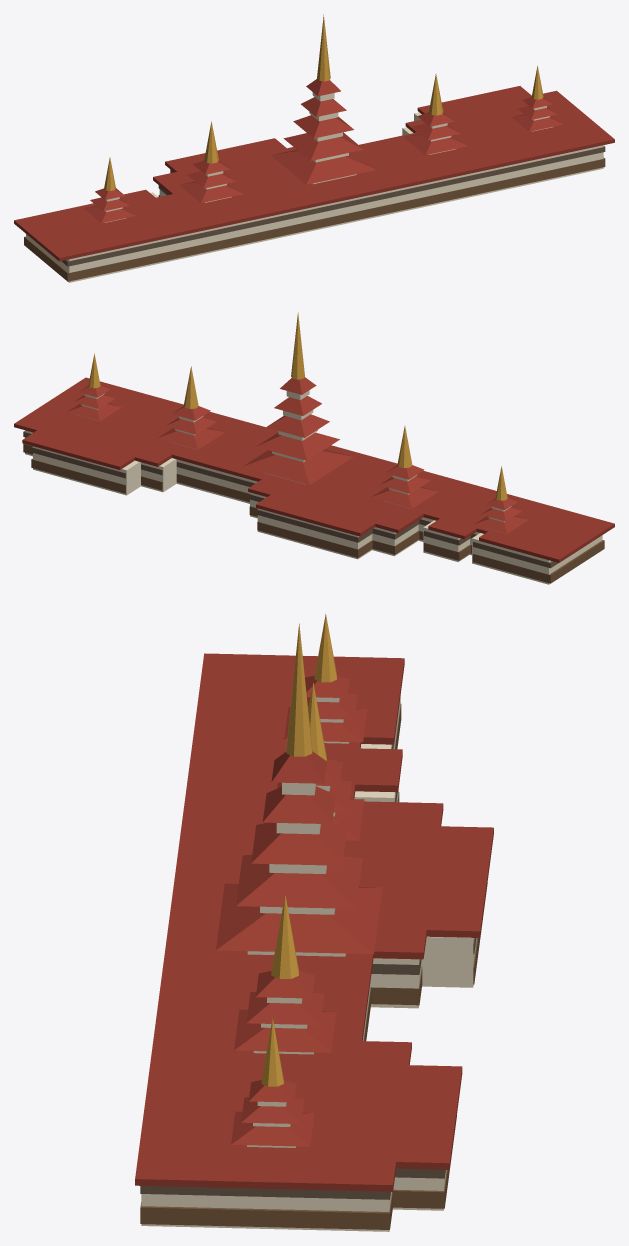
The model's file is yangon_central_station.glb.
3 renders of one model, top to bottom at view 1: azimuth 30°, elevation 25°; view 2: azimuth 150°, elevation 25°; view 3: azimuth 270°, elevation 25°, orthographic. The views are drawn at different scales.
Parts seen in each view (by area): view 1: part; view 2: part; view 3: part.
Boxes of the visible parts, x1=… form: part: x1=14, y1=14, x2=614, y2=282; part: x1=14, y1=312, x2=614, y2=584; part: x1=135, y1=613, x2=493, y2=1231.
Bounding box in the file's own units: 6770714 × 2191334 × 1930977.
